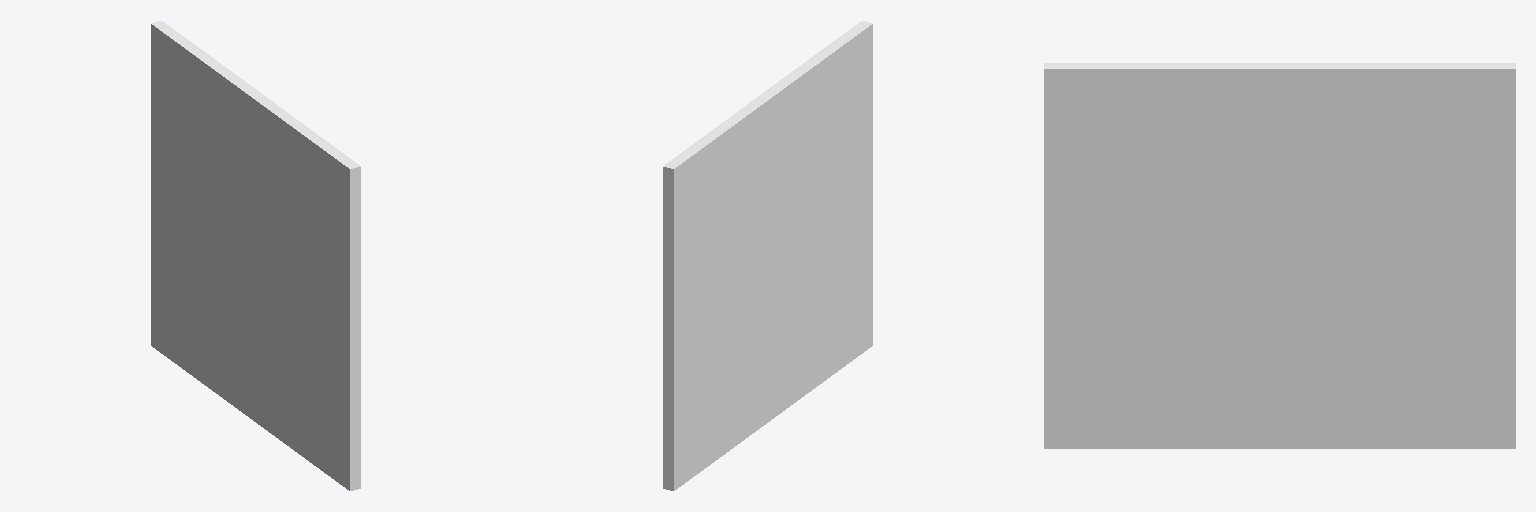
The robot description file, URDF, robot "wall2_4.urdf":
<?xml version="1.0" ?>
<robot name="wall2_4.urdf">
  <link name="baseLink">
    <inertial>
      <origin rpy="0 0 0" xyz="0 0 0"/>
       <mass value="0.0"/>
       <inertia ixx="0" ixy="0" ixz="0" iyy="0" iyz="0" izz="0"/>
    </inertial>
    <visual>
      <origin rpy="0 0 0" xyz="0 0 0"/>
      <geometry>
        <mesh filename="wall2_4.obj" scale="1.0 1.0 1.0"/>
      </geometry>
      <material name="white">
       <color rgba="1 1 1 1"/>
     </material>
    </visual>
    <collision concave="yes">
      <origin rpy="0 0 0" xyz="0 0 0"/>
      <geometry>
        <mesh filename="wall2_4.obj" scale="1.0 1.0 1.0"/>
        <!-- You could also specify the collision (for the wall2_4) with a "box" tag: -->
        <!-- <box size=".06 .06 .06"/> -->
      </geometry>
    </collision>
  </link>
</robot>
        

--- Facts derived from the render (not from the file) ---
3 views of the same robot in one strip: view 1: azimuth 30°, elevation 25°; view 2: azimuth 150°, elevation 25°; view 3: azimuth 270°, elevation 25° (orthographic).
Robot: wall2_4.urdf — 1 links, 0 joints (none); root link baseLink; default pose: every joint at zero.
Links seen in each view (by area): view 1: baseLink; view 2: baseLink; view 3: baseLink.
Boxes of the visible links, bbox=[...] form: baseLink: bbox=[151, 21, 360, 490]; baseLink: bbox=[663, 21, 872, 490]; baseLink: bbox=[1044, 63, 1515, 448].
Size in the robot's own frame: 0.091 by 2.75 by 2.45 metres.
1 mesh visuals loaded from 1 distinct referenced files (1 OBJ).
